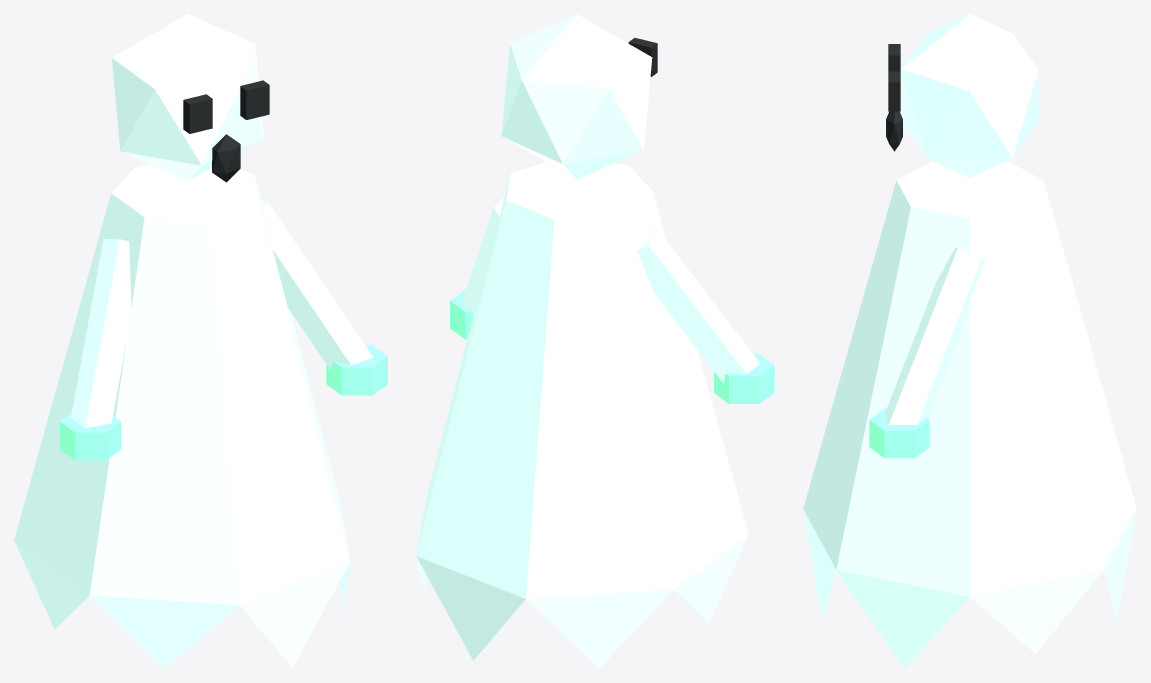
Rendered from ghost.glb.
3 renders of one model, left to right at view 1: azimuth 30°, elevation 25°; view 2: azimuth 150°, elevation 25°; view 3: azimuth 270°, elevation 25°, orthographic.
Visible parts, largest first — view 1: ghostly robe, ghostly head, drooping arm, drooping arm.001, tattered hem.004, tattered hem.005, tattered hem.003, green shackle, green shackle.001, wailing mouth, empty eye, empty eye.001; view 2: ghostly robe, ghostly head, drooping arm, tattered hem.002, tattered hem.001, tattered hem.003, green shackle, drooping arm.001, green shackle.001; view 3: ghostly robe, ghostly head, drooping arm.001, tattered hem.006, tattered hem, green shackle.001, tattered hem.005, tattered hem.001, wailing mouth, empty eye.001.
Boxes of the visible parts, x1,y1,x2,y2 form: ghostly robe: (14,165,350,604); ghostly head: (111,14,263,180); drooping arm: (71,239,132,428); drooping arm.001: (261,201,373,370); tattered hem.004: (90,595,238,668); tattered hem.005: (239,562,349,667); tattered hem.003: (14,540,89,629); green shackle: (60,413,121,460); green shackle.001: (326,345,387,395); wailing mouth: (212,134,240,182); empty eye: (183,94,212,133); empty eye.001: (240,80,269,119); ghostly robe: (416,162,748,598); ghostly head: (501,14,652,179); drooping arm: (637,228,760,383); tattered hem.002: (526,589,673,668); tattered hem.001: (416,556,525,660); tattered hem.003: (674,535,748,623); green shackle: (714,354,774,403); drooping arm.001: (461,197,504,314); green shackle.001: (450,289,473,339); ghostly robe: (803,161,1136,596); ghostly head: (901,14,1038,177); drooping arm.001: (885,247,985,424); tattered hem.006: (836,570,969,668); tattered hem: (970,570,1103,653); green shackle.001: (869,408,929,458); tattered hem.005: (803,509,835,622); tattered hem.001: (1104,509,1136,622); wailing mouth: (886,111,902,151); empty eye.001: (888,71,900,111).
Size of the model in its own units: 0.352 by 0.6551 by 0.3315.
